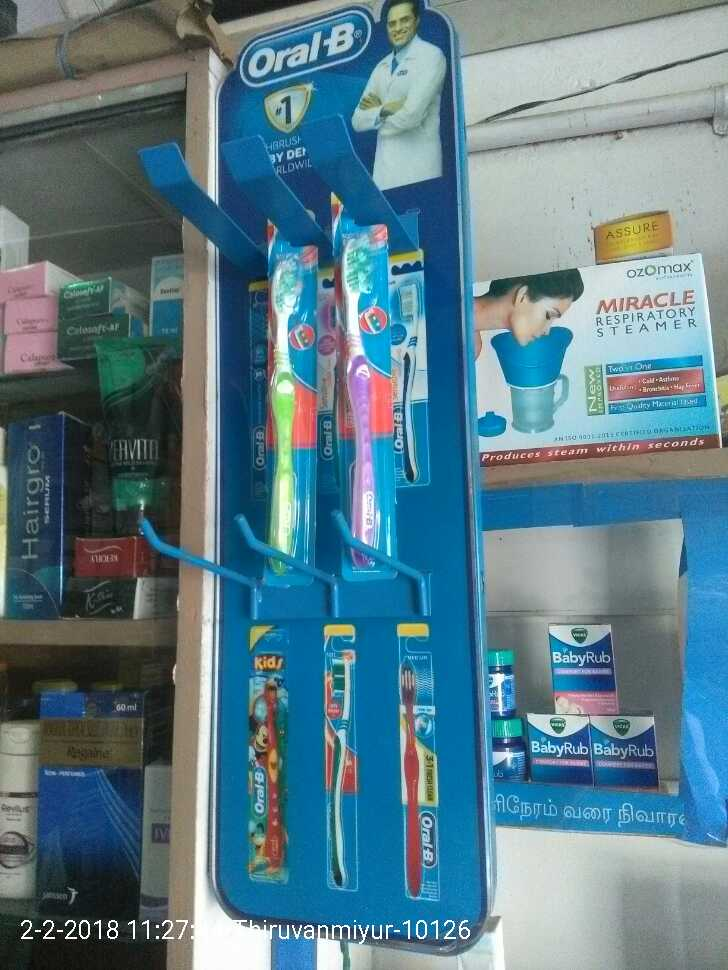pharmacy: (335, 241, 395, 566), (260, 248, 306, 560), (545, 616, 631, 721), (586, 721, 664, 790), (522, 716, 588, 783)
